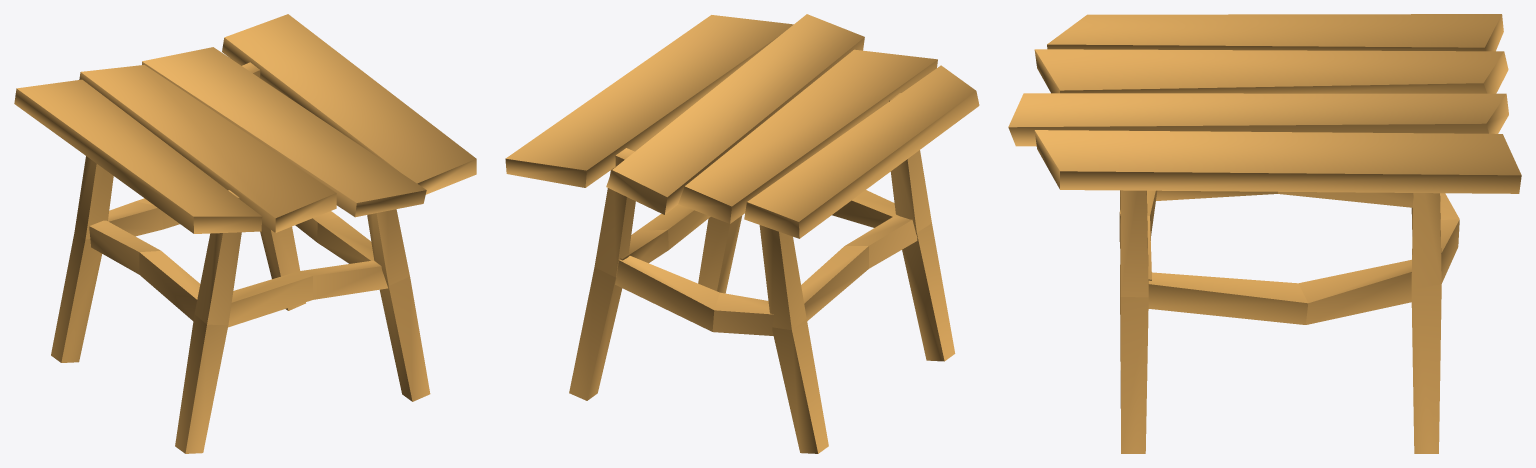
File: Stall_3.fbx
3 renders of one model, left to right at view 1: azimuth 30°, elevation 25°; view 2: azimuth 150°, elevation 25°; view 3: azimuth 270°, elevation 25°, orthographic. The views are drawn at different scales.
Visible parts, largest first — view 1: Stall_3; view 2: Stall_3; view 3: Stall_3.
Part boxes in pixels (x1=…): Stall_3: x1=14, y1=14, x2=476, y2=453; Stall_3: x1=505, y1=14, x2=979, y2=453; Stall_3: x1=1008, y1=14, x2=1521, y2=453.
Bounding box in the file's own units: 52.73 × 45.67 × 70.55.
